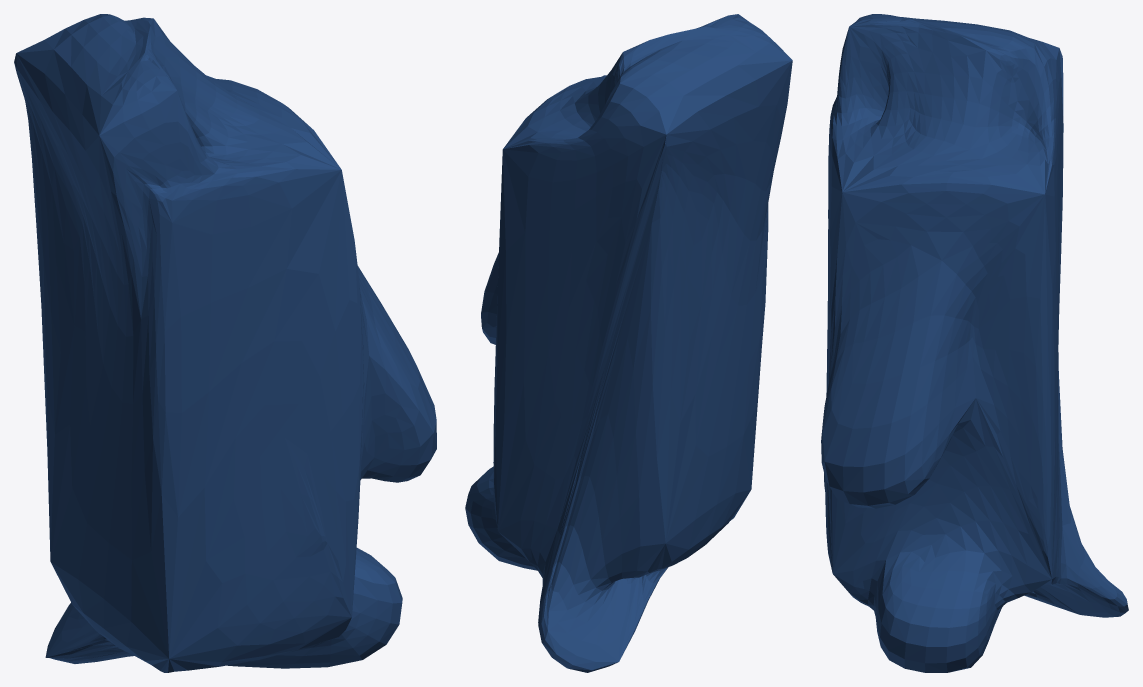
The picture shows the model from 3 angles, left to right: view 1: azimuth 30°, elevation 25°; view 2: azimuth 150°, elevation 25°; view 3: azimuth 270°, elevation 25°; orthographic projection. The views are drawn at different scales.
Parts seen in each view (by area): view 1: 852_Cube.3441; view 2: 852_Cube.3441; view 3: 852_Cube.3441.
Boxes of the visible parts, box(x1,y1,x2,y2) form: 852_Cube.3441: box(14, 14, 436, 672); 852_Cube.3441: box(465, 14, 792, 672); 852_Cube.3441: box(821, 14, 1128, 672).
Size of the model in its own units: 8.59 by 16.39 by 7.78.
